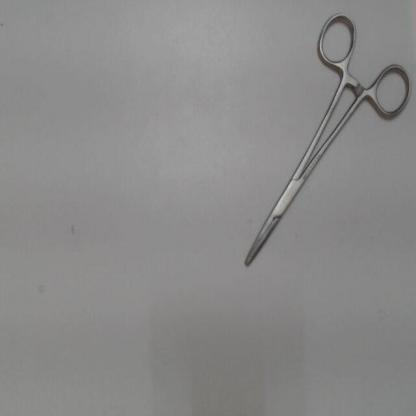Mayo Needle Holder: (230, 5, 415, 284)
